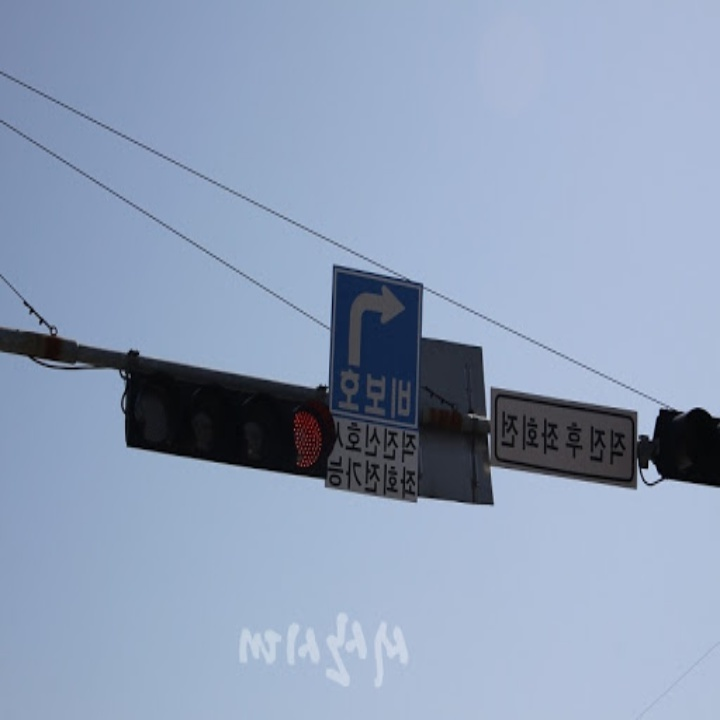right: (342, 282, 409, 371)
